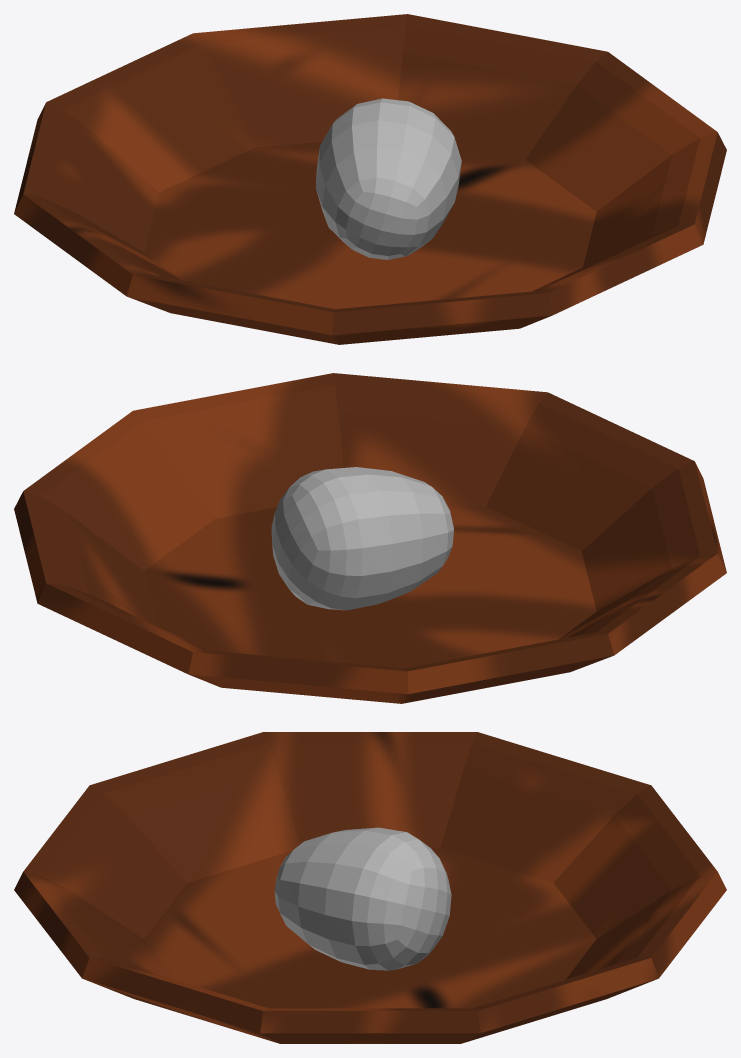
File: egg_remain1.obj
The picture shows the model from 3 angles, top to bottom: view 1: azimuth 30°, elevation 25°; view 2: azimuth 150°, elevation 25°; view 3: azimuth 270°, elevation 25°; orthographic projection. The views are drawn at different scales.
Visible parts, largest first — view 1: Egg_Whole_Cube.011; view 2: Egg_Whole_Cube.011; view 3: Egg_Whole_Cube.011.
Boxes of the visible parts, x1=… form: Egg_Whole_Cube.011: x1=14, y1=14, x2=726, y2=344; Egg_Whole_Cube.011: x1=14, y1=373, x2=726, y2=703; Egg_Whole_Cube.011: x1=14, y1=732, x2=726, y2=1043.
Bounding box in the file's own units: 1.74 × 0.3867 × 1.83.
1 material, 1 textured.
